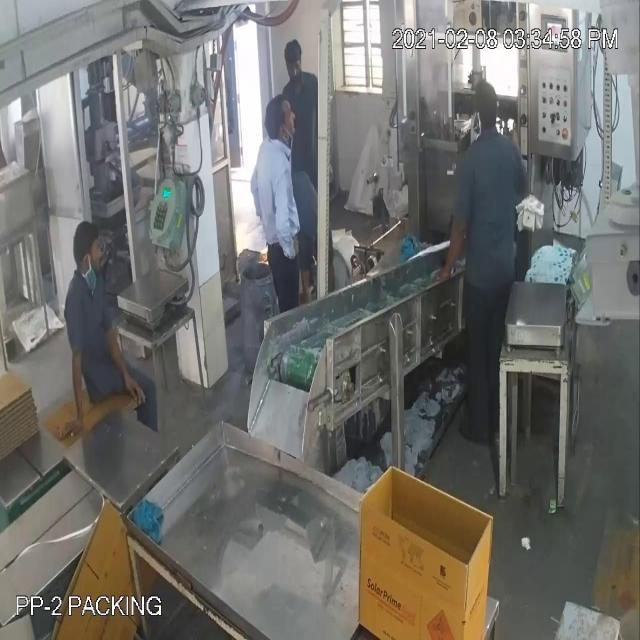No_Gloves: (24, 86, 453, 388)
